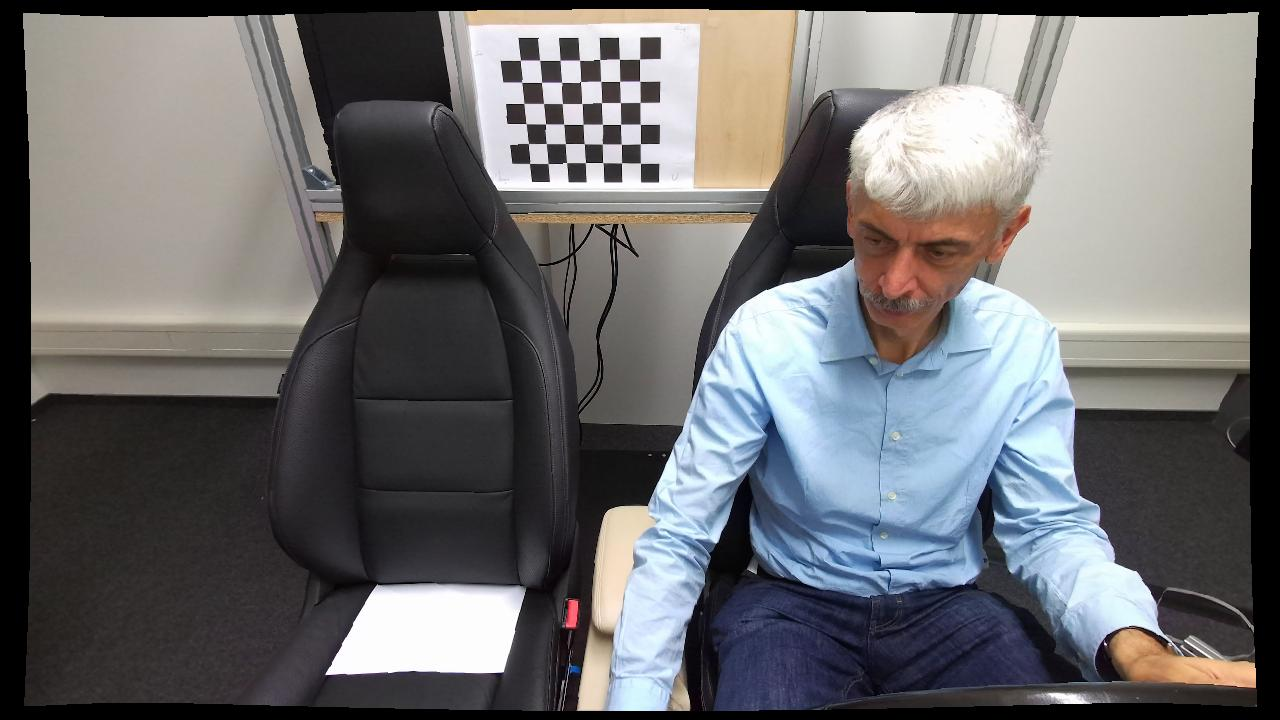Distracted: (604, 88, 1132, 718)
